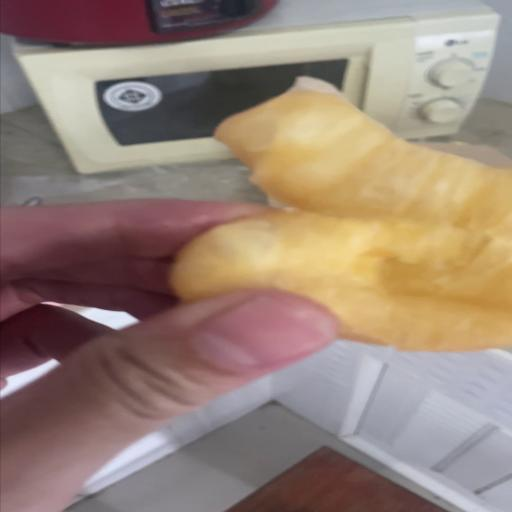street_golden_defect: (174, 91, 512, 353)
